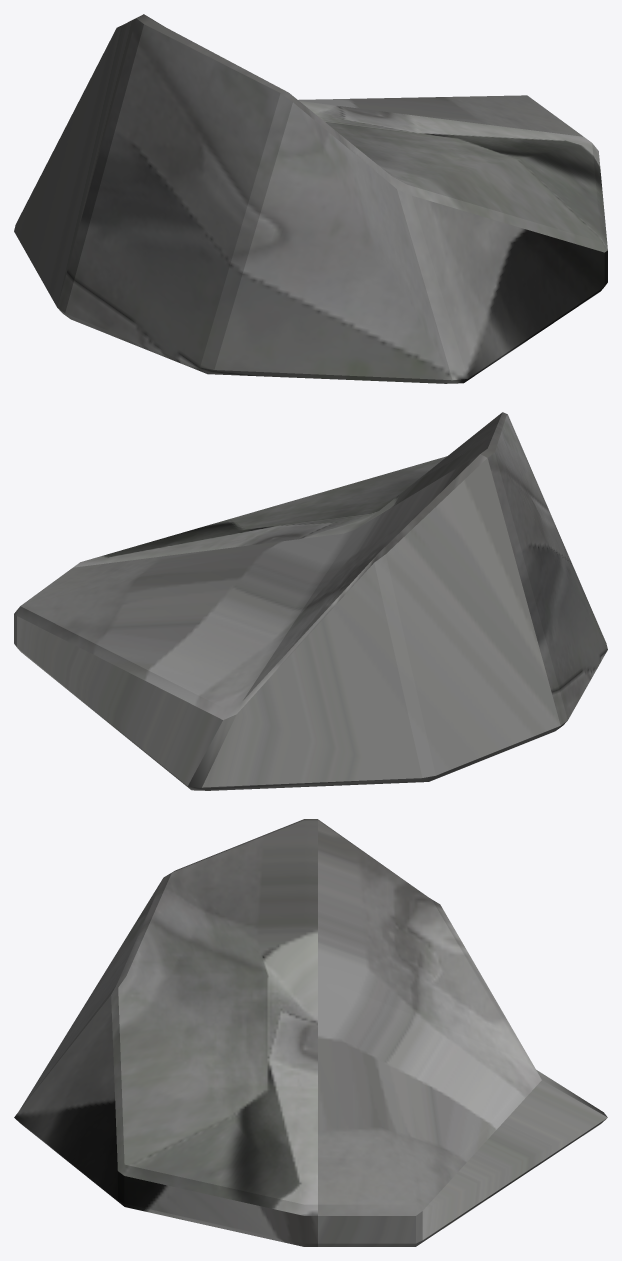
The model's file is 7_R_Chica.fbx.
The picture shows the model from 3 angles, top to bottom: view 1: azimuth 30°, elevation 25°; view 2: azimuth 150°, elevation 25°; view 3: azimuth 270°, elevation 25°; orthographic projection. The views are drawn at different scales.
Parts seen in each view (by area): view 1: 7_R_Chica_Low; view 2: 7_R_Chica_Low; view 3: 7_R_Chica_Low.
Part boxes in pixels (left/top/right/bottom): 7_R_Chica_Low: left=14, top=14, right=607, bottom=383; 7_R_Chica_Low: left=14, top=412, right=607, bottom=790; 7_R_Chica_Low: left=14, top=819, right=607, bottom=1246.
Size of the model in its own units: 1049 by 525 by 1171.
